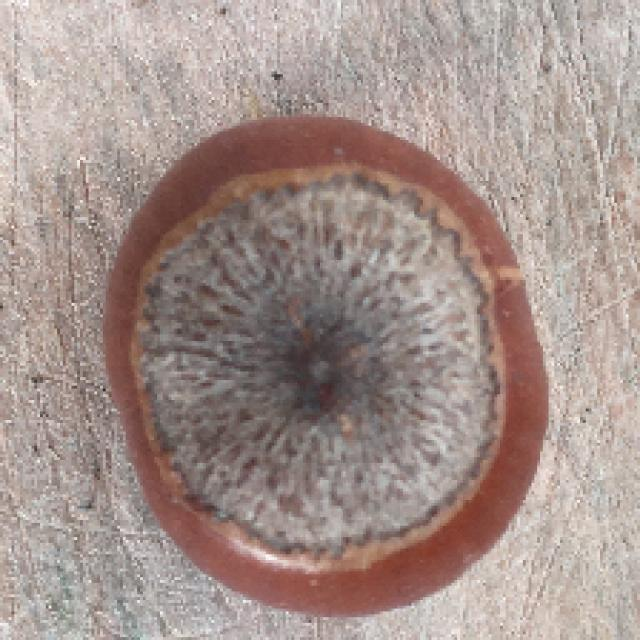damagedHazelnut: (97, 105, 565, 612)
